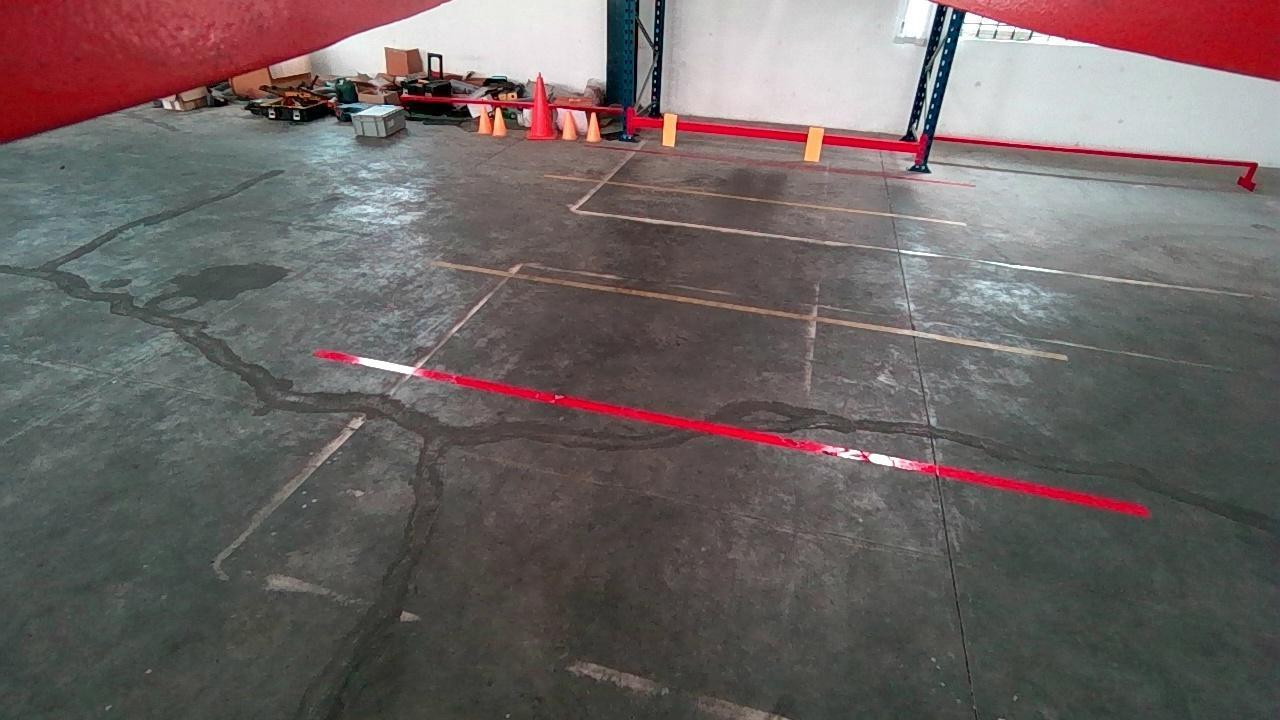h_rack: (634, 118, 916, 151)
orange_strip: (806, 123, 822, 158), (662, 112, 677, 145)
red_line: (315, 348, 1150, 518), (584, 145, 974, 187)
yellow_line: (435, 258, 1066, 361), (543, 171, 968, 226)
